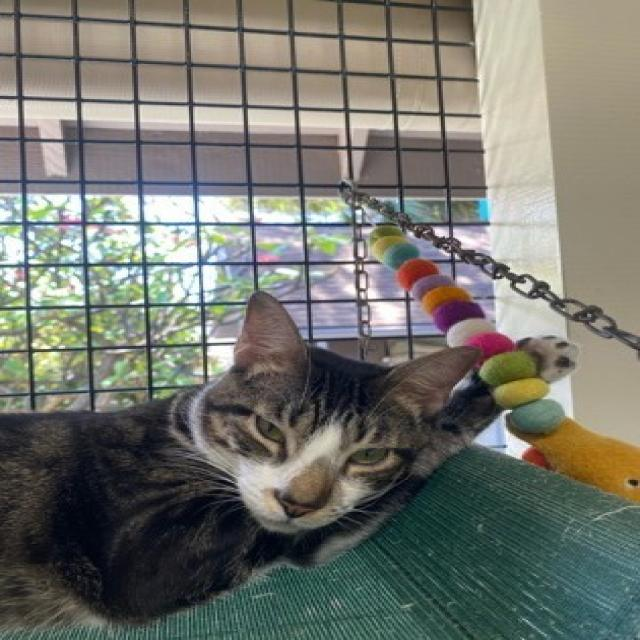domestic_short_hair_cat: (179, 279, 491, 566)
